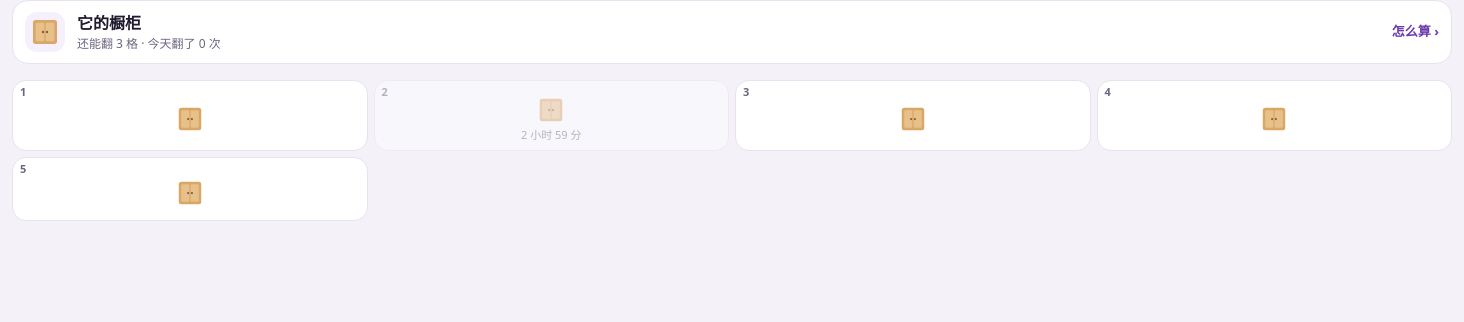
Test: FriendFlipView › 冷却中的位置不能点；点其他位置翻橱并显示结果
The image size is (1464, 322).
Expected: the button with test id "slot-2" is disabled, [374, 80, 729, 150]
Expected: the button with test id "slot-2" shows "2 小时", [374, 80, 729, 150]
Step 1. Click the button with test id "slot-1" → (190, 115), box [12, 80, 368, 150]
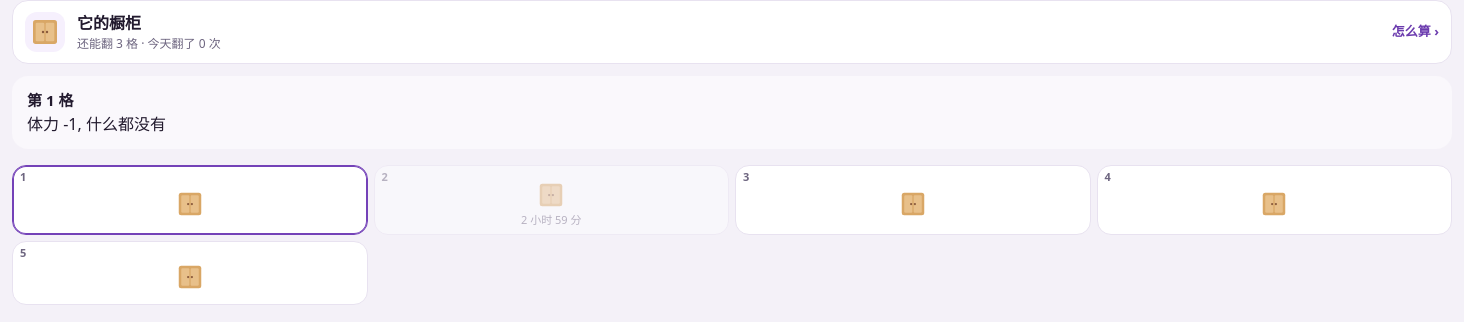
Expected: the text "什么都没有" is shown, [27, 112, 166, 134]
